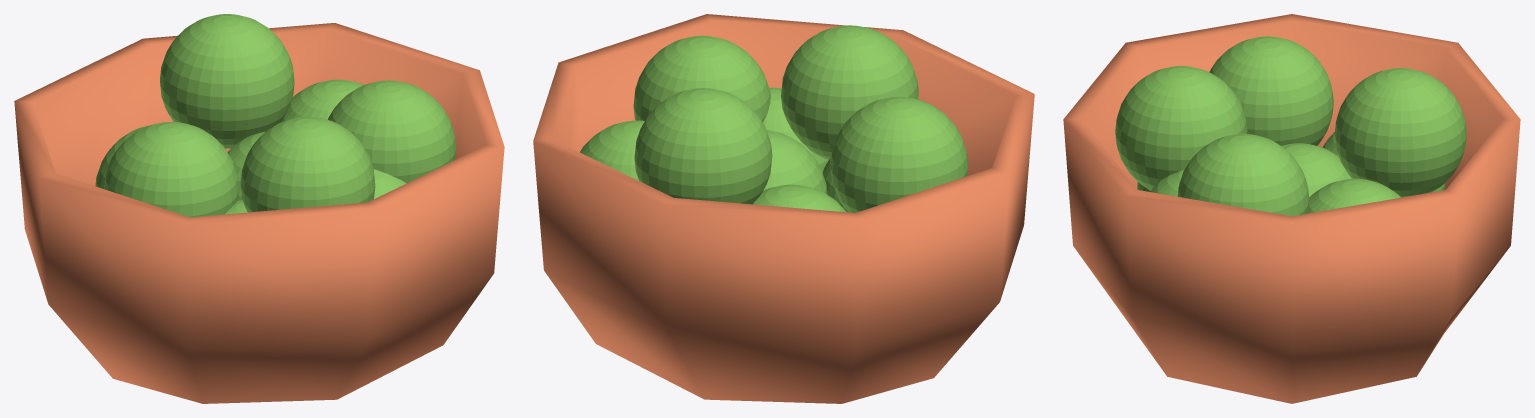
File: kue klepon.fbx
3 renders of one model, left to right at view 1: azimuth 30°, elevation 25°; view 2: azimuth 150°, elevation 25°; view 3: azimuth 270°, elevation 25°, orthographic. The views are drawn at different scales.
Parts seen in each view (by area): view 1: Cube, Sphere.012, Sphere.011, Sphere.010, Sphere.009, Sphere.008, Sphere.006, Sphere.004, Sphere.007; view 2: Cube, Sphere.012, Sphere.010, Sphere.011, Sphere.009, Sphere.006, Sphere.008, Sphere.007, Sphere.004; view 3: Cube, Sphere.012, Sphere.011, Sphere.010, Sphere.009, Sphere.008, Sphere.006, Sphere.004.
Part boxes in pixels (box(x1,y1,x2,y2)): Cube: box(14, 23, 504, 403); Sphere.012: box(160, 14, 294, 148); Sphere.011: box(240, 116, 375, 212); Sphere.010: box(104, 122, 238, 217); Sphere.009: box(328, 80, 455, 183); Sphere.008: box(281, 79, 363, 121); Sphere.006: box(227, 131, 264, 200); Sphere.004: box(373, 169, 406, 198); Sphere.007: box(95, 125, 149, 188); Cube: box(533, 14, 1034, 403); Sphere.012: box(634, 88, 772, 204); Sphere.010: box(830, 96, 968, 212); Sphere.011: box(781, 25, 918, 159); Sphere.009: box(633, 35, 770, 122); Sphere.006: box(763, 130, 827, 194); Sphere.008: box(580, 120, 644, 180); Sphere.007: box(753, 184, 846, 212); Sphere.004: box(763, 87, 828, 172); Cube: box(1063, 14, 1520, 403); Sphere.012: box(1334, 68, 1466, 197); Sphere.011: box(1115, 66, 1247, 190); Sphere.010: box(1209, 36, 1333, 145); Sphere.009: box(1177, 133, 1309, 216); Sphere.008: box(1305, 178, 1400, 213); Sphere.006: box(1282, 143, 1351, 196); Sphere.004: box(1150, 170, 1184, 196).
Bounding box in the file's own units: 165 × 110 × 151.
